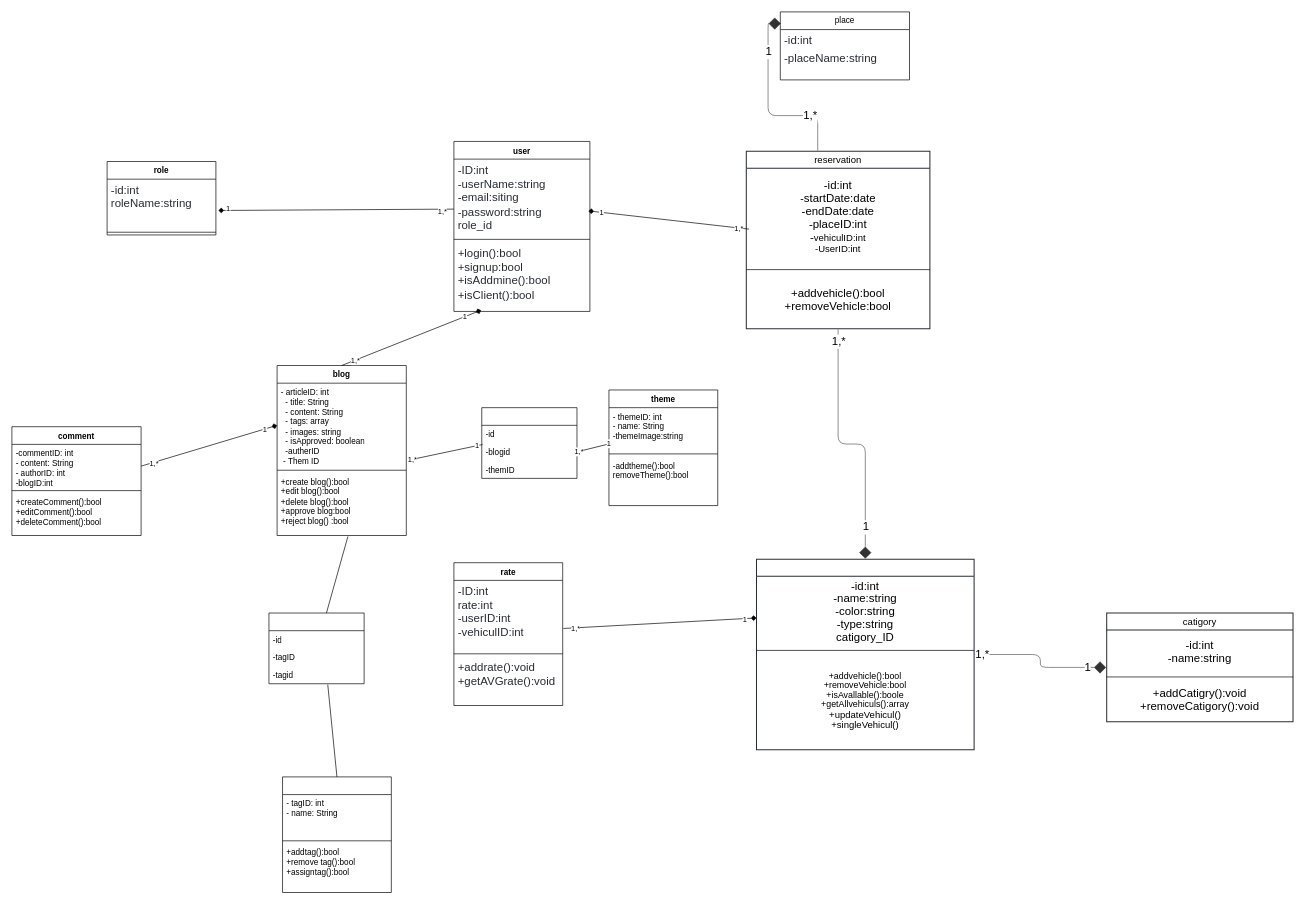
Some shapes in this 1306 by 906 pixel diagram are drawn without their labels. The box of each missing label's shape, as (x1, y1, x2, y2) in pixels:
blog tag: (268, 612, 364, 684)
blog them: (481, 407, 577, 478)
tags: (282, 776, 391, 893)
vehicles: (756, 558, 974, 750)
